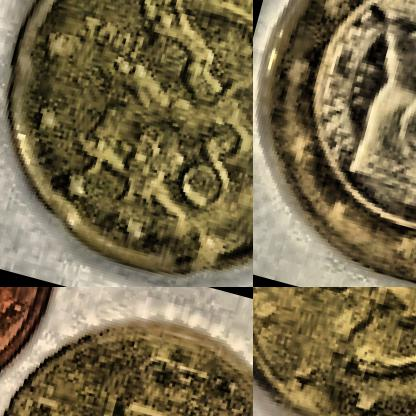coin: (0, 0, 252, 286), (253, 0, 415, 286), (0, 287, 252, 415), (253, 287, 415, 415)
